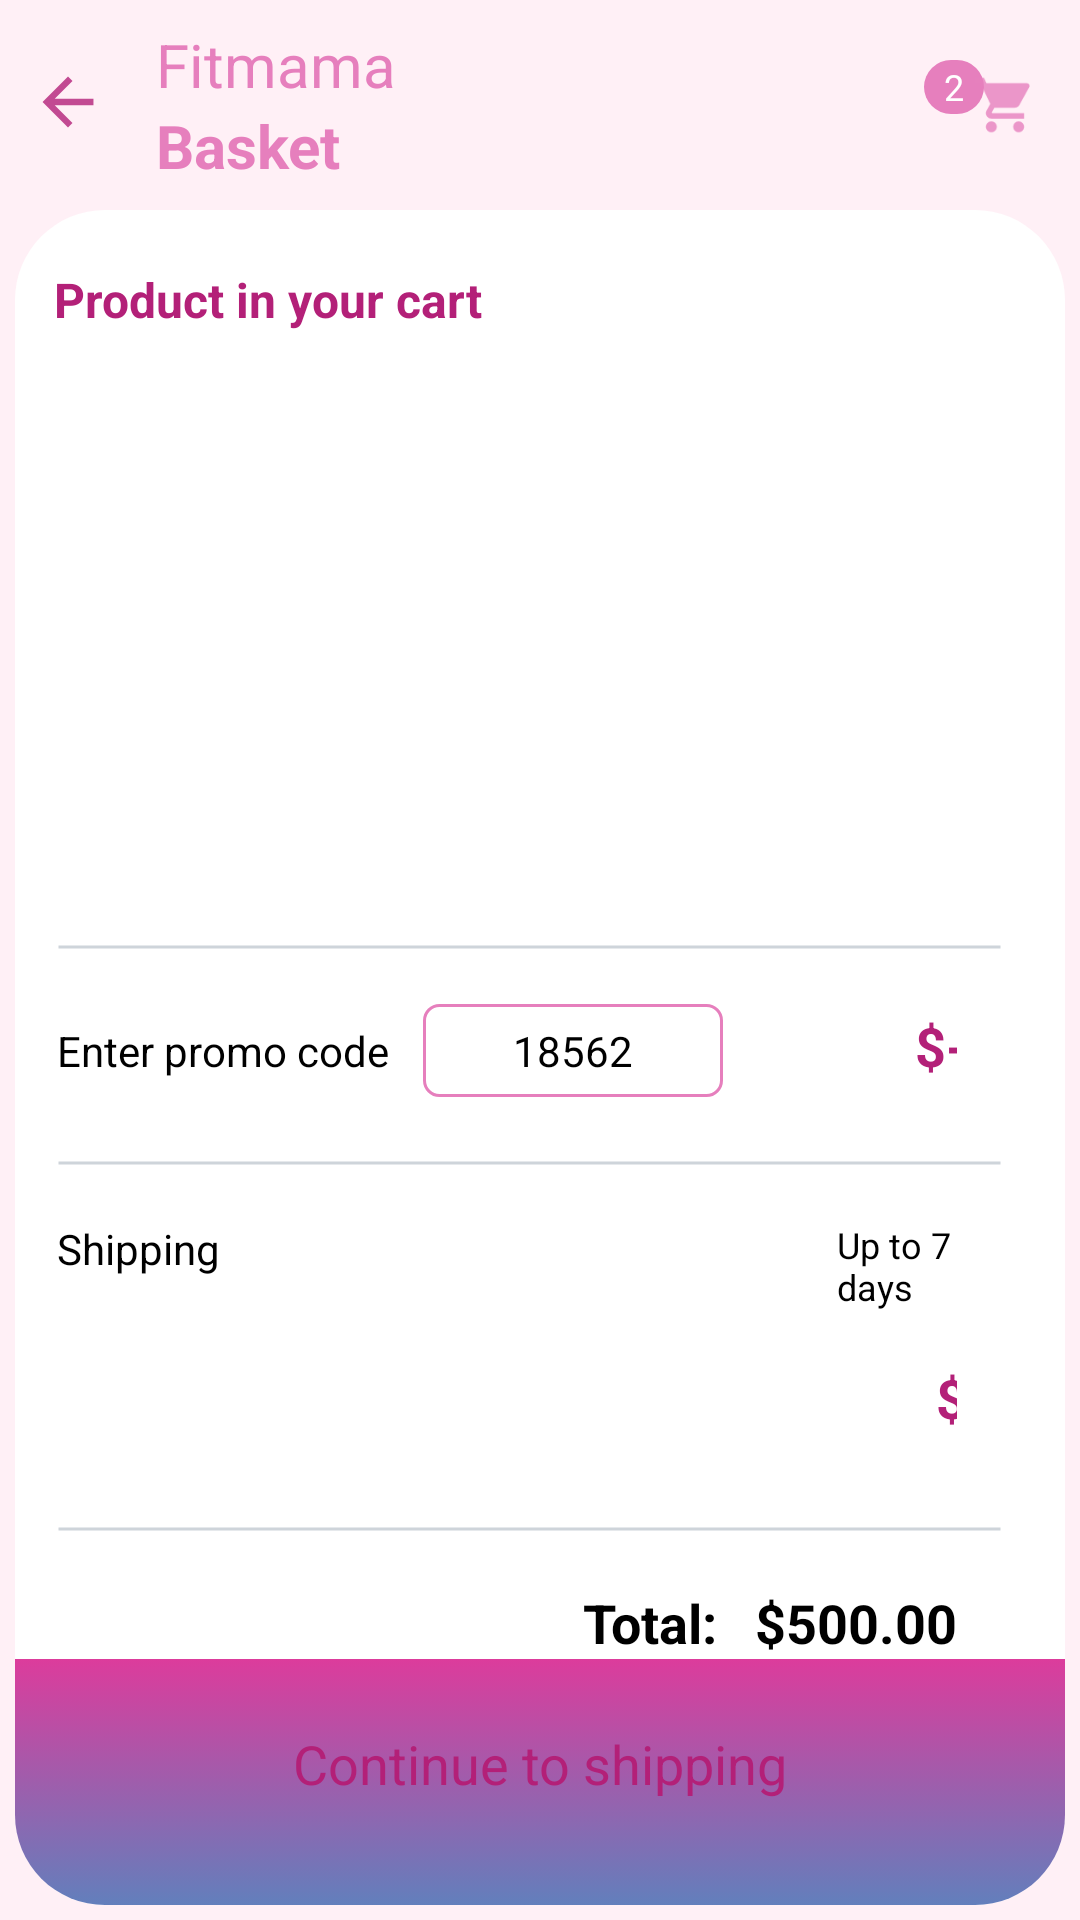

Screen size 1080w x 1920h. Icon name, then its box in pixels as box(x1, y1, x2, y2):
back: box(43, 77, 94, 127)
basket: box(966, 69, 1030, 133)
